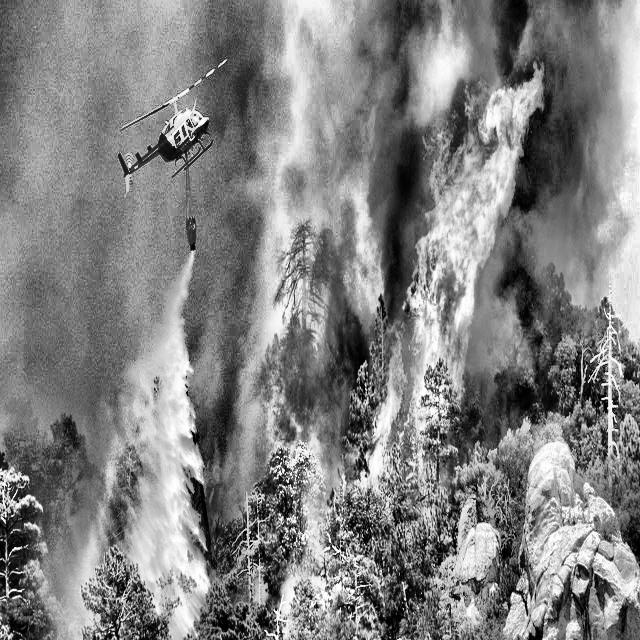fire: (339, 37, 572, 555)
